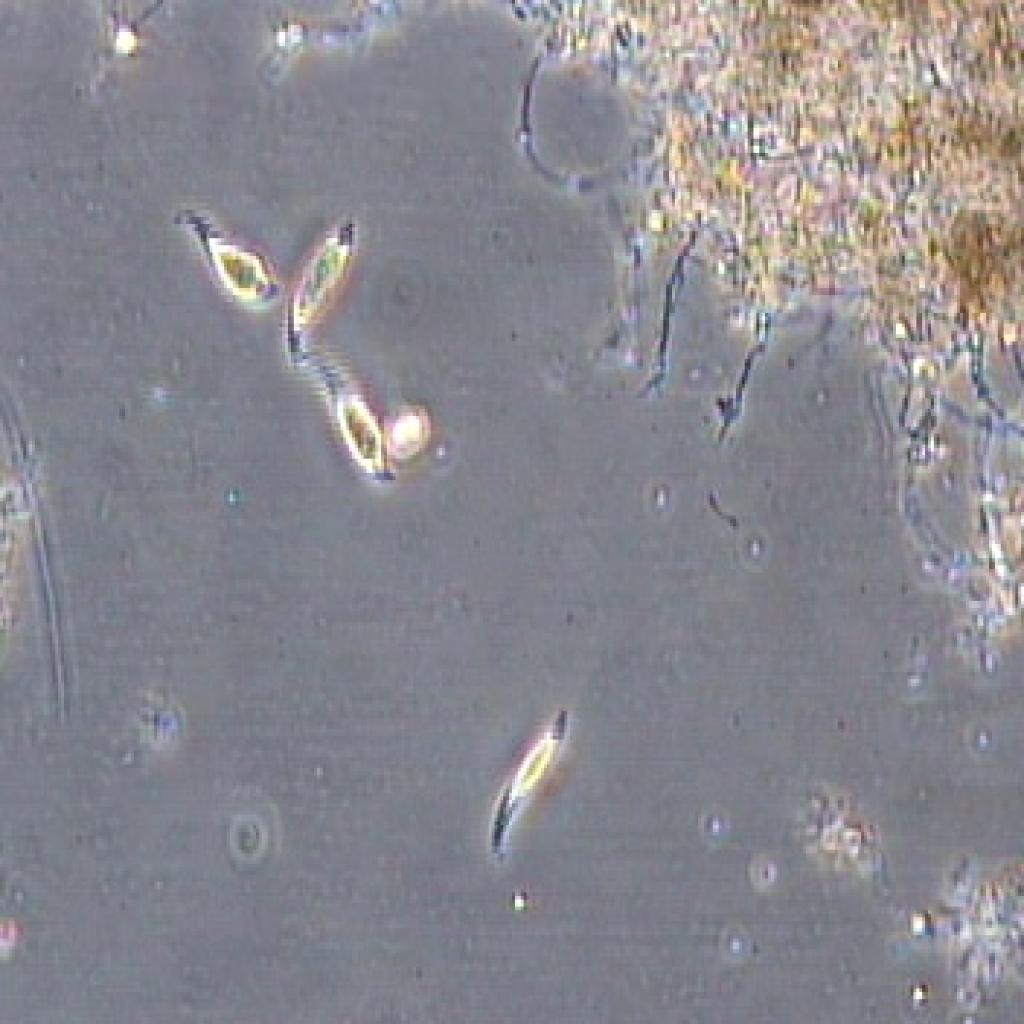Pristina: (471, 667, 579, 862), (276, 340, 402, 492), (265, 212, 384, 350), (175, 194, 285, 340)
